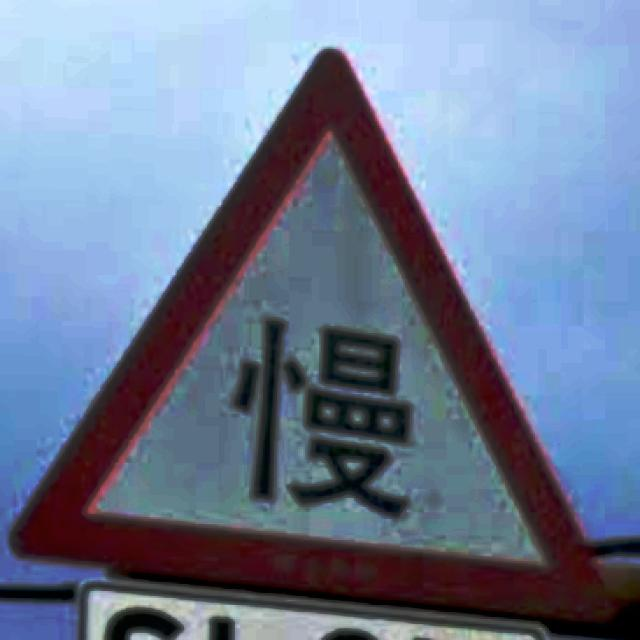slow: (11, 49, 622, 622)
